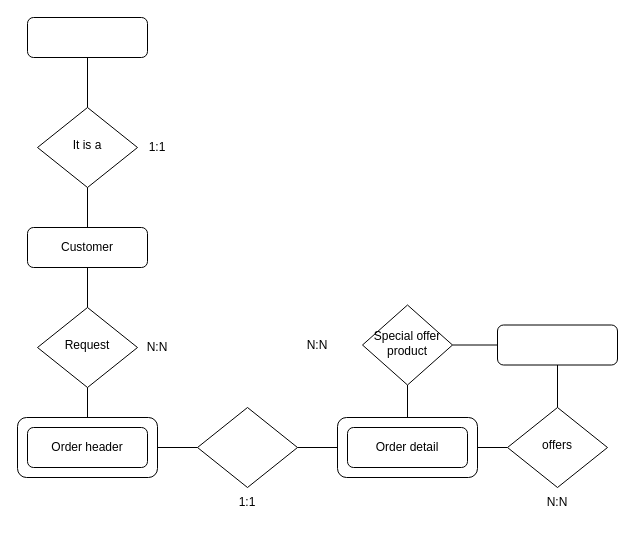
Image size: 635x535. Some labels were removed from this diagram. The shapes that lost their labels are listed below. From the top down, each one's centre as x and y in pixels, then its label:
the point at 87,37: Person
the point at 557,344: Product
the point at 247,447: Detail
